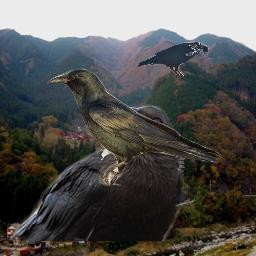Crow: (7, 102, 186, 241), (46, 68, 221, 186), (136, 41, 209, 79)
